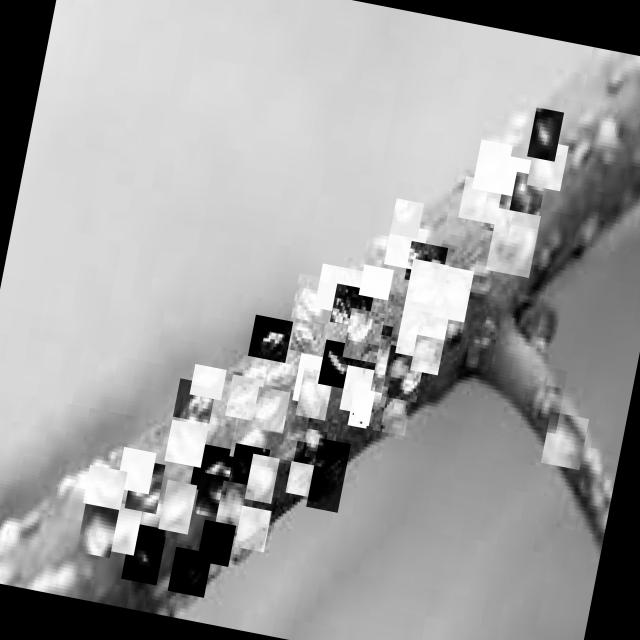scale_insect: (486, 208, 541, 278), (519, 364, 568, 434), (306, 438, 351, 513), (121, 522, 167, 586), (541, 412, 589, 470), (368, 378, 414, 436), (395, 297, 437, 359), (382, 345, 426, 403), (314, 264, 363, 316), (371, 335, 411, 397), (342, 307, 386, 363), (100, 501, 143, 556), (289, 441, 334, 493), (76, 504, 119, 558), (124, 459, 166, 514), (433, 266, 474, 322), (190, 443, 234, 495), (214, 481, 256, 535), (291, 274, 336, 324), (168, 547, 212, 598), (227, 443, 270, 495), (472, 140, 513, 194), (526, 140, 568, 192), (248, 315, 293, 363), (458, 177, 503, 225), (158, 480, 197, 535), (230, 412, 272, 463), (82, 464, 128, 510), (352, 321, 393, 372), (164, 421, 208, 468), (295, 368, 334, 421), (172, 378, 216, 424), (194, 472, 236, 520), (406, 259, 448, 307), (340, 366, 380, 416), (527, 108, 564, 162), (330, 284, 374, 329), (383, 227, 428, 271), (404, 241, 448, 286), (116, 446, 156, 494), (318, 340, 356, 390), (481, 184, 518, 234), (225, 375, 264, 422), (197, 520, 236, 567), (244, 454, 280, 504), (348, 388, 388, 432), (252, 388, 290, 434), (235, 506, 272, 552), (302, 414, 337, 462), (509, 172, 546, 216), (290, 312, 326, 356), (292, 353, 323, 404), (414, 311, 449, 354), (502, 156, 536, 199), (286, 461, 324, 499), (410, 334, 444, 376), (390, 198, 424, 239), (190, 364, 227, 401), (359, 264, 394, 300)
